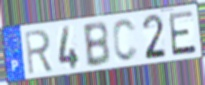2: (141, 13, 168, 61)
4: (57, 24, 81, 71)
B: (81, 20, 112, 69)
C: (111, 17, 140, 64)
E: (167, 9, 198, 58)
R: (23, 28, 55, 77)
